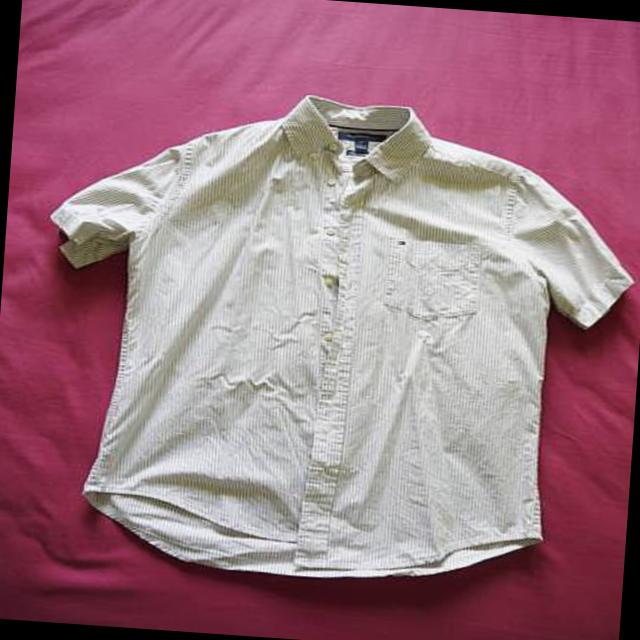SHIRT: (14, 67, 640, 605)
